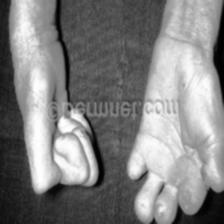Toxin: (182, 177, 196, 204), (154, 200, 168, 216)
